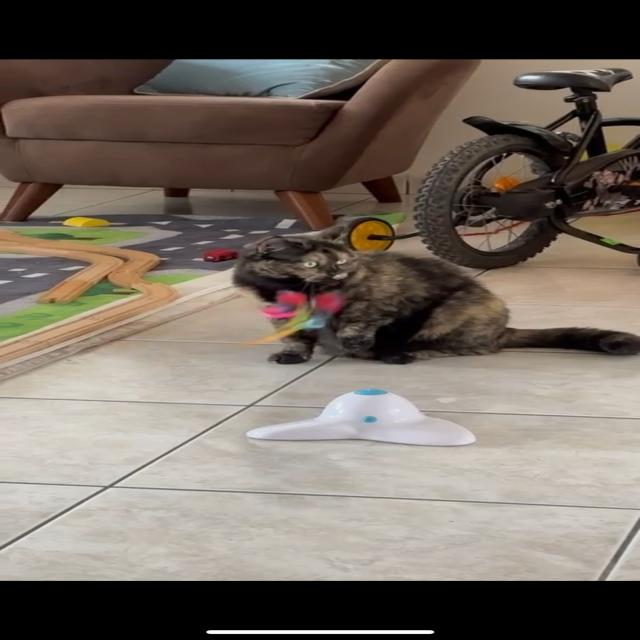authorized: (230, 214, 639, 366)
